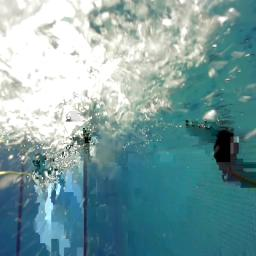Full: (34, 156, 64, 188)
